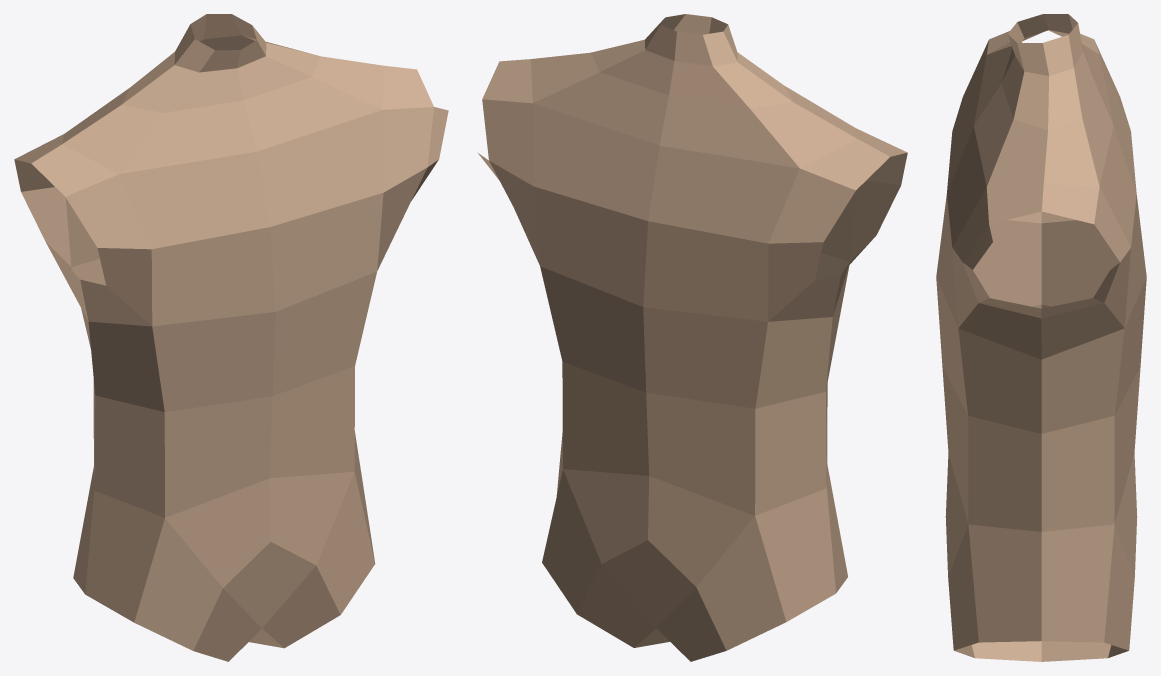
The model's file is Torso.fbx.
3 views of the same model, side by side, from view 1: azimuth 30°, elevation 25°; view 2: azimuth 150°, elevation 25°; view 3: azimuth 270°, elevation 25° (orthographic). The views are drawn at different scales.
Parts seen in each view (by area): view 1: Vert.009; view 2: Vert.009; view 3: Vert.009.
Part boxes in pixels (x1=…): Vert.009: x1=14, y1=14, x2=448, y2=661; Vert.009: x1=477, y1=14, x2=907, y2=661; Vert.009: x1=936, y1=14, x2=1146, y2=661.
Size of the model in its own units: 178 by 267 by 80.35.
